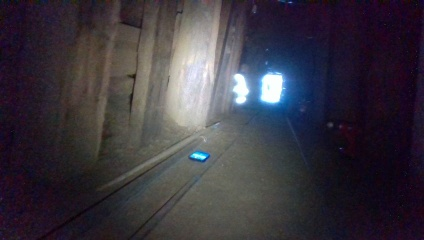cellphone: (187, 148, 209, 163)
drill: (322, 118, 358, 161)
fire_extinguisher: (296, 94, 311, 125)
manikin: (231, 60, 254, 114)
